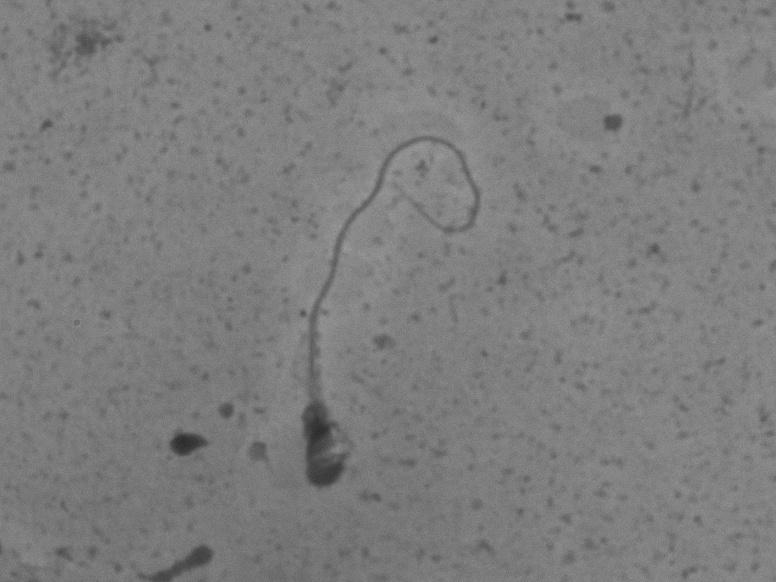Abnormal: (242, 107, 516, 518)
